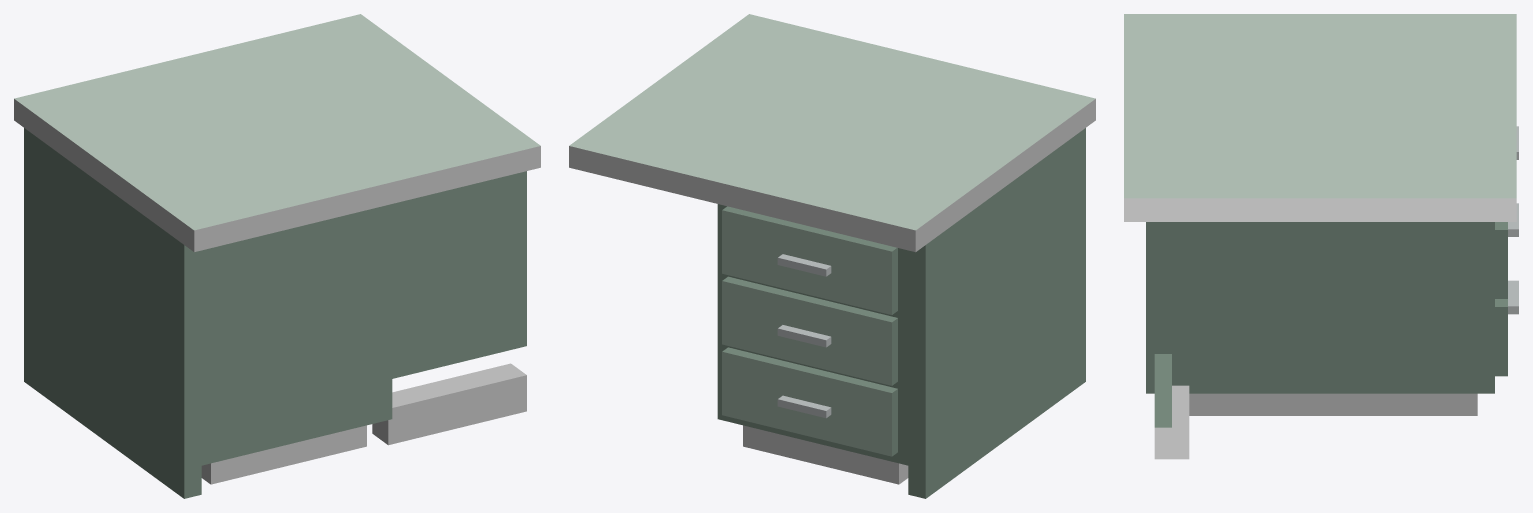
The model's file is supervisor_drawers.obj.
3 views of the same model, side by side, from view 1: azimuth 30°, elevation 25°; view 2: azimuth 150°, elevation 25°; view 3: azimuth 270°, elevation 25° (orthographic). The views are drawn at different scales.
Visible parts, largest first — view 1: supervisor_drawers; view 2: supervisor_drawers; view 3: supervisor_drawers.
Part boxes in pixels (x1,y1,x2,y2): supervisor_drawers: [14, 14, 540, 498]; supervisor_drawers: [569, 14, 1095, 498]; supervisor_drawers: [1124, 14, 1518, 459].
Size of the model in its own units: 1 by 0.76 by 0.905.
